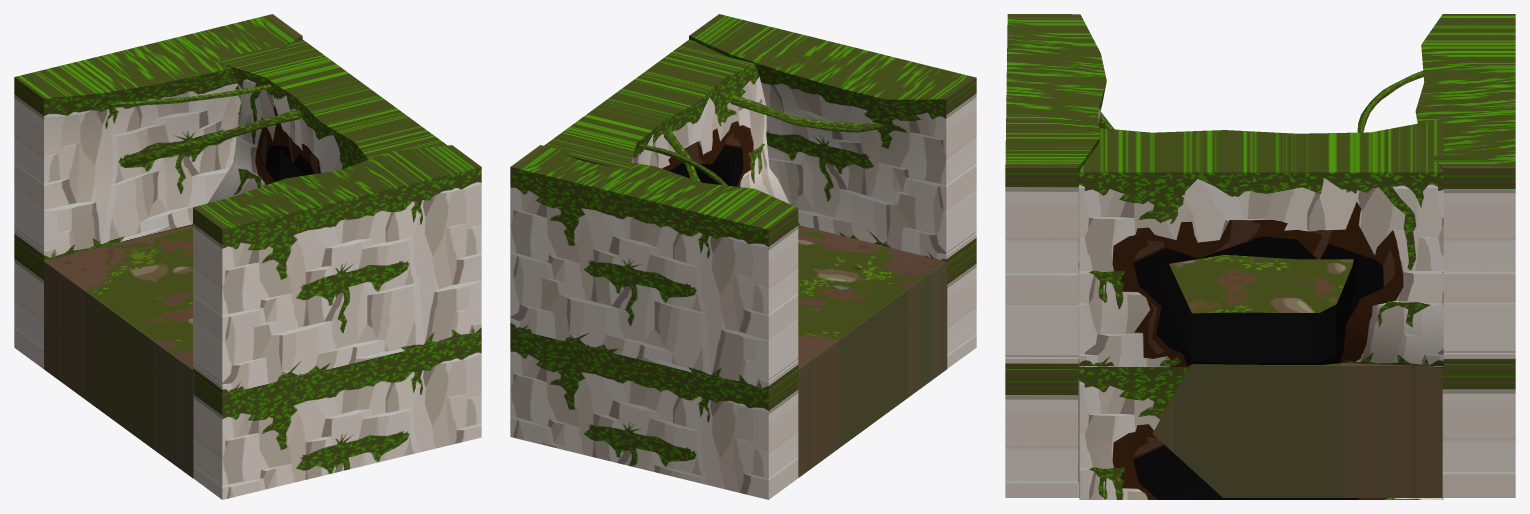
The model's file is CaseDepart.fbx.
The picture shows the model from 3 angles, left to right: view 1: azimuth 30°, elevation 25°; view 2: azimuth 150°, elevation 25°; view 3: azimuth 270°, elevation 25°; orthographic projection. The views are drawn at different scales.
Parts seen in each view (by area): view 1: Box008, Box003, Box001, Box004, Line005, Line001; view 2: Box003, Box008, Box001, Box004, Line002, Line001; view 3: Box004, Box001, Box008, Box003, Line001.
Boxes of the visible parts, <box> form: Box008: <box>193,145,481,499</box>; Box003: <box>14,14,302,368</box>; Box001: <box>44,225,193,478</box>; Box004: <box>208,39,447,203</box>; Line005: <box>122,109,301,167</box>; Line001: <box>108,84,271,107</box>; Box003: <box>510,145,798,499</box>; Box008: <box>689,14,976,368</box>; Box001: <box>798,225,947,477</box>; Box004: <box>544,39,799,225</box>; Line002: <box>729,95,885,132</box>; Line001: <box>638,144,727,185</box>; Box004: <box>1079,120,1443,499</box>; Box001: <box>1078,254,1442,497</box>; Box008: <box>1005,14,1106,497</box>; Box003: <box>1415,14,1515,497</box>; Line001: <box>1357,70,1423,132</box>.
Size of the model in its own units: 197 by 198 by 276.
4 materials, 4 textured.
